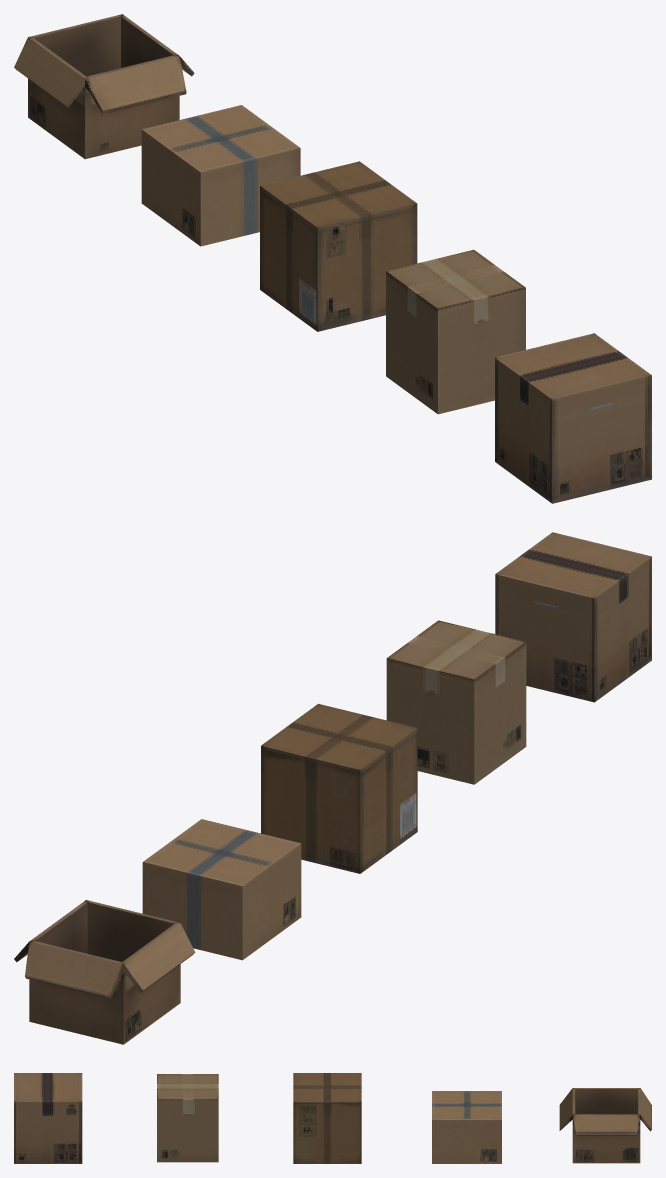
File: Cardboard_boxes_01.glb
3 renders of one model, top to bottom at view 1: azimuth 30°, elevation 25°; view 2: azimuth 150°, elevation 25°; view 3: azimuth 270°, elevation 25°, orthographic. The views are drawn at different scales.
Parts seen in each view (by area): view 1: SM_Cardboard_boxes_01_01, SM_Cardboard_boxes_01_03, SM_Cardboard_boxes_01_02, SM_Cardboard_boxes_01_05, SM_Cardboard_boxes_01_04; view 2: SM_Cardboard_boxes_01_03, SM_Cardboard_boxes_01_01, SM_Cardboard_boxes_01_05, SM_Cardboard_boxes_01_02, SM_Cardboard_boxes_01_04; view 3: SM_Cardboard_boxes_01_01, SM_Cardboard_boxes_01_03, SM_Cardboard_boxes_01_05, SM_Cardboard_boxes_01_02, SM_Cardboard_boxes_01_04.
Boxes of the visible parts, left/top/right/bottom form: SM_Cardboard_boxes_01_01: left=495, top=333, right=651, bottom=503; SM_Cardboard_boxes_01_03: left=260, top=161, right=417, bottom=331; SM_Cardboard_boxes_01_02: left=386, top=249, right=525, bottom=414; SM_Cardboard_boxes_01_05: left=14, top=14, right=194, bottom=159; SM_Cardboard_boxes_01_04: left=141, top=105, right=300, bottom=246; SM_Cardboard_boxes_01_03: left=261, top=703, right=417, bottom=873; SM_Cardboard_boxes_01_01: left=495, top=532, right=651, bottom=702; SM_Cardboard_boxes_01_05: left=14, top=900, right=195, bottom=1044; SM_Cardboard_boxes_01_02: left=386, top=620, right=526, bottom=784; SM_Cardboard_boxes_01_04: left=142, top=819, right=301, bottom=960; SM_Cardboard_boxes_01_01: left=14, top=1073, right=82, bottom=1163; SM_Cardboard_boxes_01_03: left=293, top=1073, right=361, bottom=1163; SM_Cardboard_boxes_01_05: left=559, top=1088, right=651, bottom=1163; SM_Cardboard_boxes_01_02: left=157, top=1074, right=218, bottom=1162; SM_Cardboard_boxes_01_04: left=432, top=1091, right=501, bottom=1163.
Size of the model in its own units: 1.27 by 0.99 by 9.14.
Materials: 1 (1 with a texture image).
